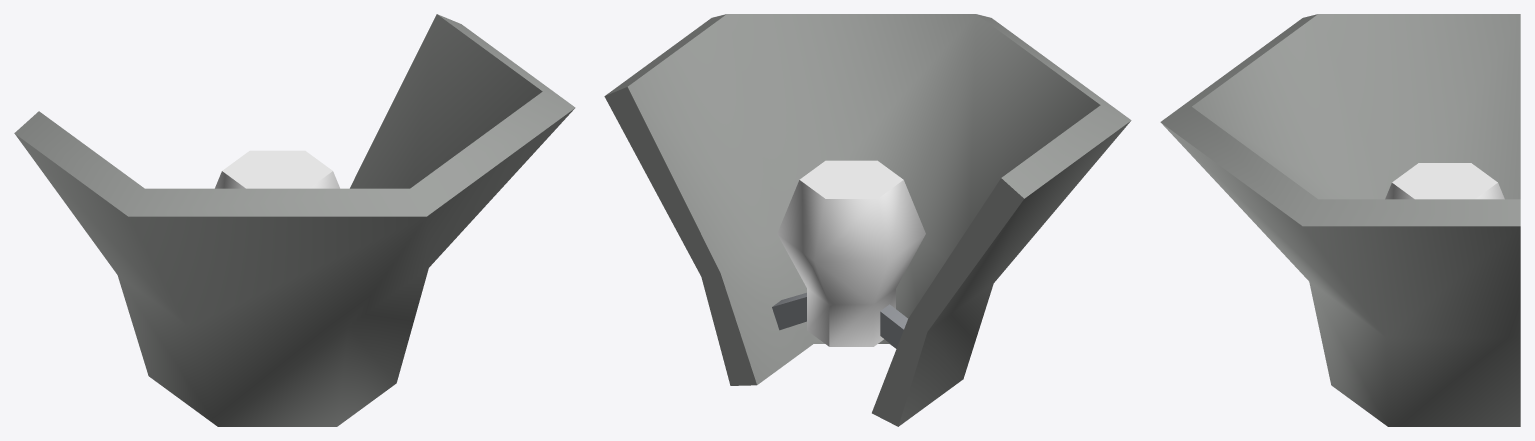
The model's file is SM_Prop_WallLight_01.obj.
The picture shows the model from 3 angles, left to right: view 1: azimuth 30°, elevation 25°; view 2: azimuth 150°, elevation 25°; view 3: azimuth 270°, elevation 25°; orthographic projection. The views are drawn at different scales.
Visible parts, largest first — view 1: SM_Prop_WallLight_01_M_PolygonOffice_01_A, SM_Prop_WallLight_01_Mat_Glow_Lamp_Inst; view 2: SM_Prop_WallLight_01_M_PolygonOffice_01_A, SM_Prop_WallLight_01_Mat_Glow_Lamp_Inst; view 3: SM_Prop_WallLight_01_M_PolygonOffice_01_A, SM_Prop_WallLight_01_Mat_Glow_Lamp_Inst.
Boxes of the visible parts, x1,y1,x2,y2 form: SM_Prop_WallLight_01_M_PolygonOffice_01_A: (14,14,575,426); SM_Prop_WallLight_01_Mat_Glow_Lamp_Inst: (215,150,339,188); SM_Prop_WallLight_01_M_PolygonOffice_01_A: (604,14,1131,426); SM_Prop_WallLight_01_Mat_Glow_Lamp_Inst: (777,160,925,346); SM_Prop_WallLight_01_M_PolygonOffice_01_A: (1160,14,1520,426); SM_Prop_WallLight_01_Mat_Glow_Lamp_Inst: (1385,163,1504,199).
Bounding box in the file's own units: 0.2838 × 0.177 × 0.2074.
2 materials, 1 textured.
